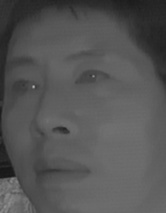eye: (73, 67, 112, 90), (8, 75, 41, 98)
mouth: (27, 151, 90, 191)
